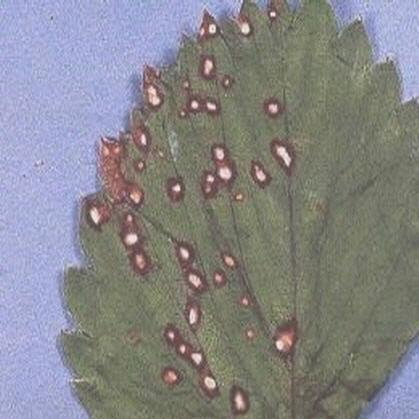Leaf Spot: (56, 0, 418, 418)
